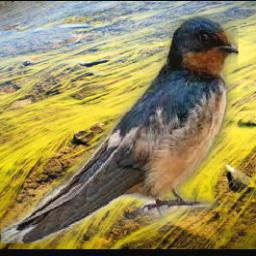Swallow: (1, 15, 238, 244)
